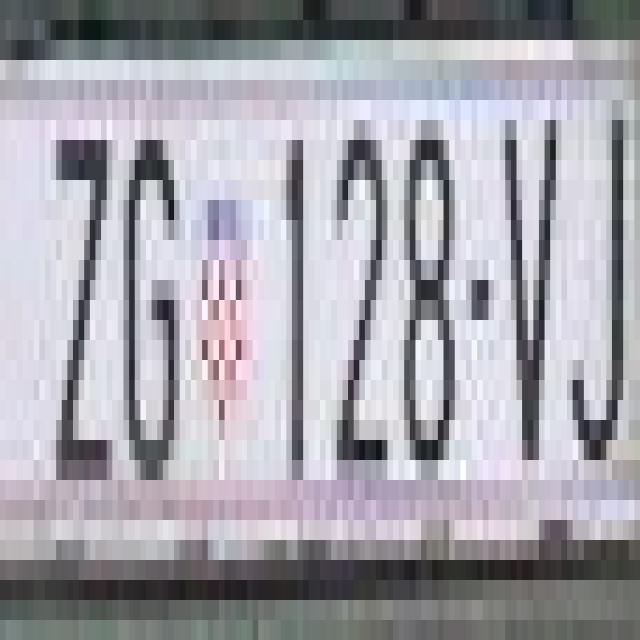1: (281, 140, 303, 500)
2: (337, 140, 382, 500)
8: (404, 120, 455, 500)
G: (124, 140, 180, 480)
V: (500, 100, 556, 460)
Z: (50, 120, 106, 480)
